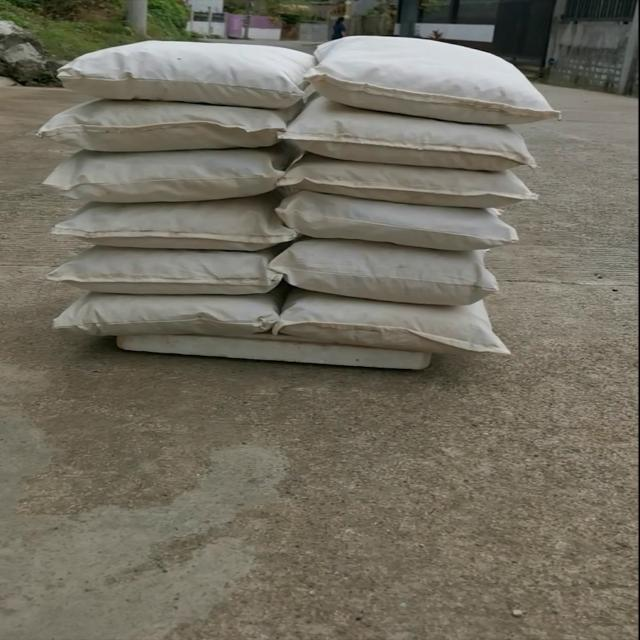Sack: (314, 32, 565, 130), (272, 106, 542, 175), (281, 234, 516, 308), (57, 42, 303, 107), (285, 192, 513, 262), (276, 297, 515, 362), (35, 97, 283, 157), (46, 146, 290, 206), (286, 155, 540, 211), (53, 287, 274, 345), (45, 197, 282, 251), (50, 248, 283, 297)
